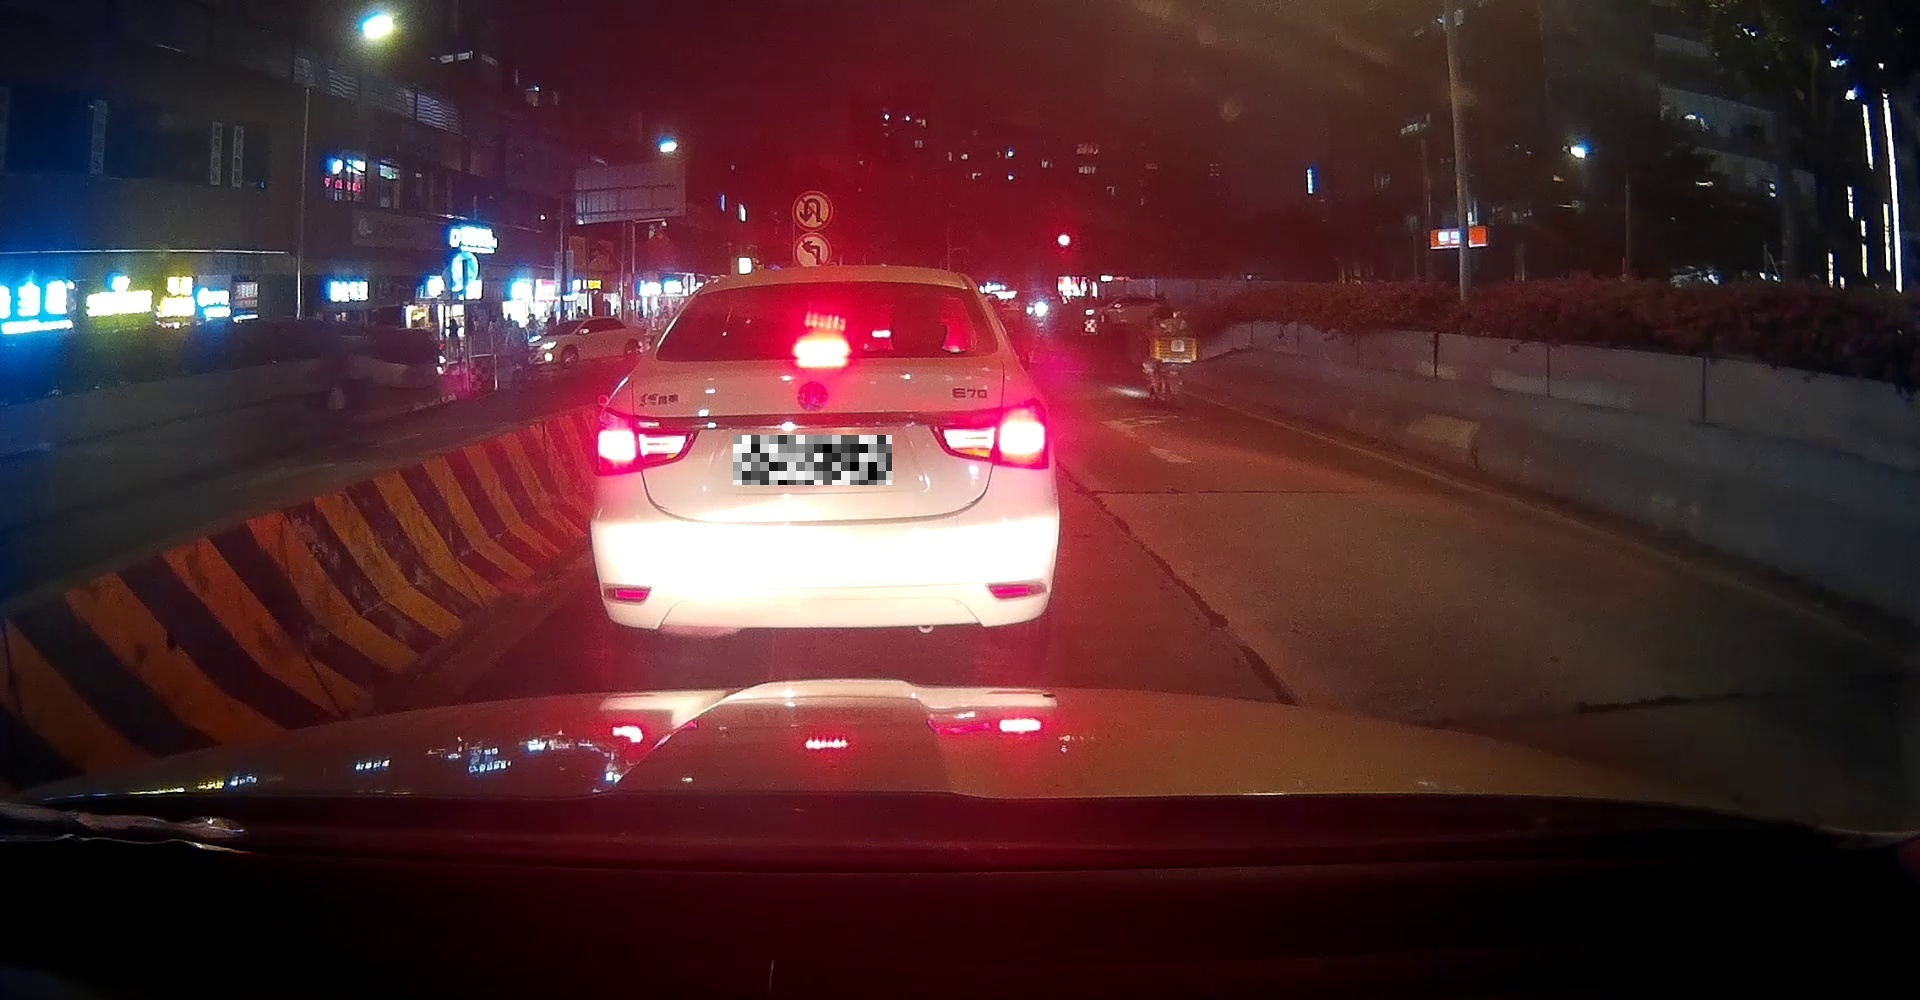L_light: (594, 406, 701, 475)
R_light: (927, 397, 1051, 470)
T_light: (794, 339, 848, 358)
night-brake: (589, 263, 1059, 657)
plate_1: (733, 435, 891, 485)
